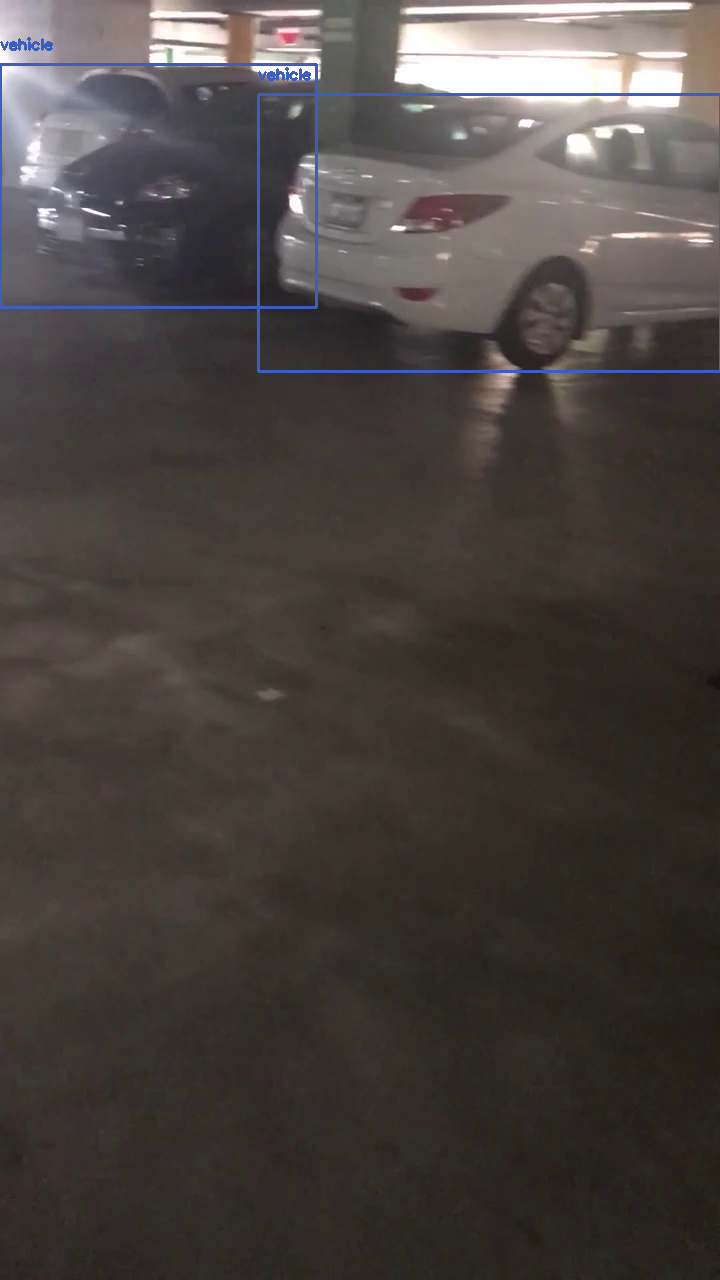vehicle: (258, 94, 720, 371), (0, 64, 316, 307)
